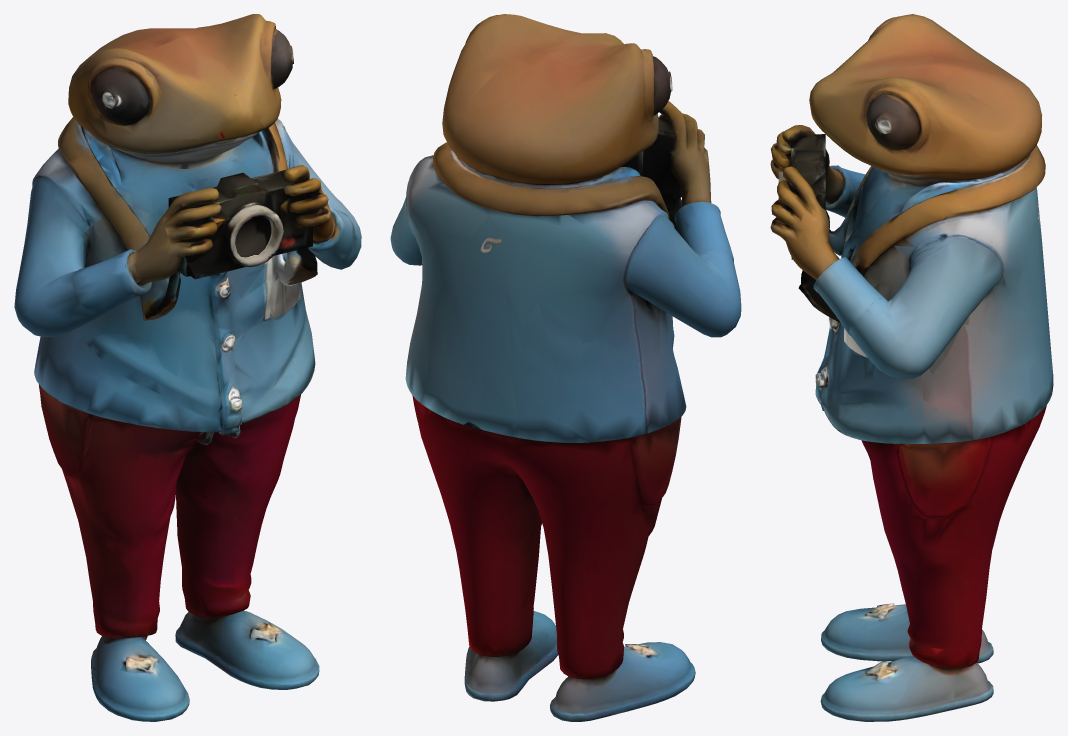
Rendered from sapo_concho.glb.
The picture shows the model from 3 angles, left to right: view 1: azimuth 30°, elevation 25°; view 2: azimuth 150°, elevation 25°; view 3: azimuth 270°, elevation 25°; orthographic projection. The views are drawn at different scales.
Parts seen in each view (by area): view 1: Object_2; view 2: Object_2; view 3: Object_2.
Boxes of the visible parts, x1,y1,x2,y2 form: Object_2: (14,14,361,721); Object_2: (390,14,741,721); Object_2: (770,14,1053,721).
Bounding box in the file's own units: 1.02 × 1.85 × 0.7566.
1 material, 1 textured.
